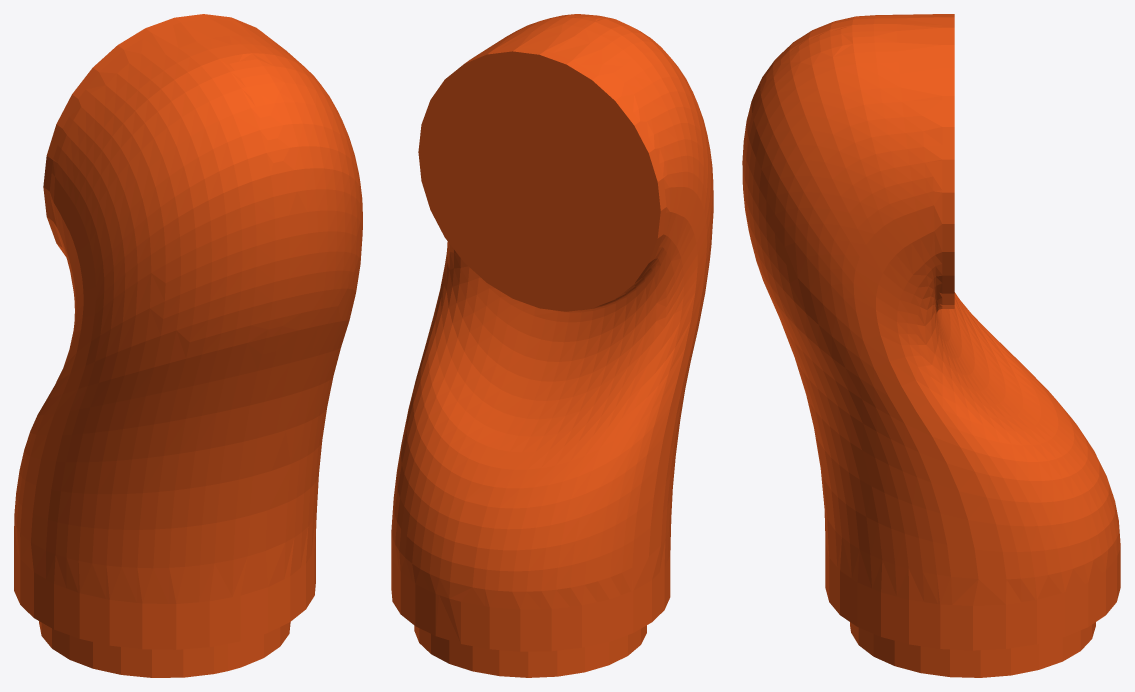
The picture shows the model from 3 angles, left to right: view 1: azimuth 30°, elevation 25°; view 2: azimuth 150°, elevation 25°; view 3: azimuth 270°, elevation 25°; orthographic projection. The views are drawn at different scales.
Parts seen in each view (by area): view 1: link_1, link_1.001; view 2: link_1.001, link_1; view 3: link_1.001, link_1.
Boxes of the visible parts, left/top/right/bottom form: link_1: left=14, top=14, right=362, bottom=677; link_1.001: left=14, top=15, right=362, bottom=676; link_1.001: left=391, top=15, right=713, bottom=676; link_1: left=391, top=14, right=713, bottom=677; link_1.001: left=742, top=14, right=1120, bottom=672; link_1: left=742, top=15, right=1119, bottom=677.
Bounding box in the file's own units: 0.12 × 0.1538 × 0.2685.
